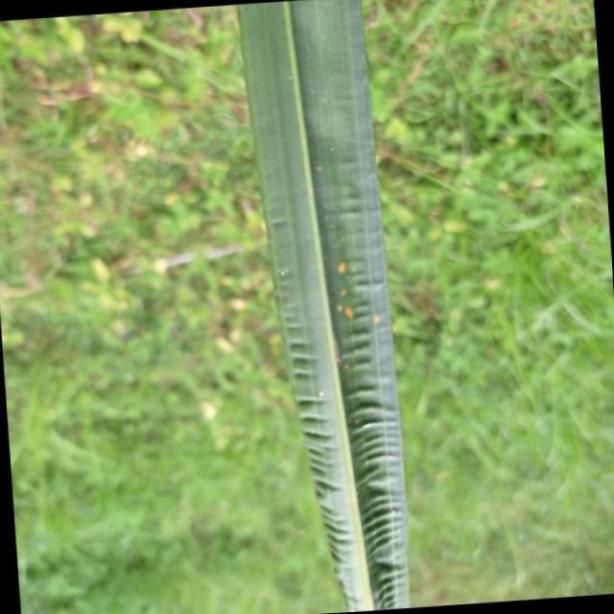Boron: (235, 0, 411, 614)
